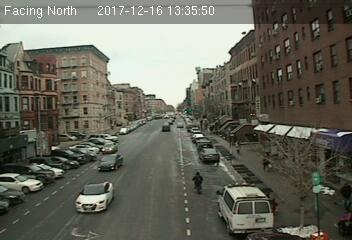bicycle: (192, 171, 204, 195)
car: (76, 181, 116, 210), (97, 152, 122, 170), (200, 148, 221, 163)
police: (216, 182, 275, 235)
